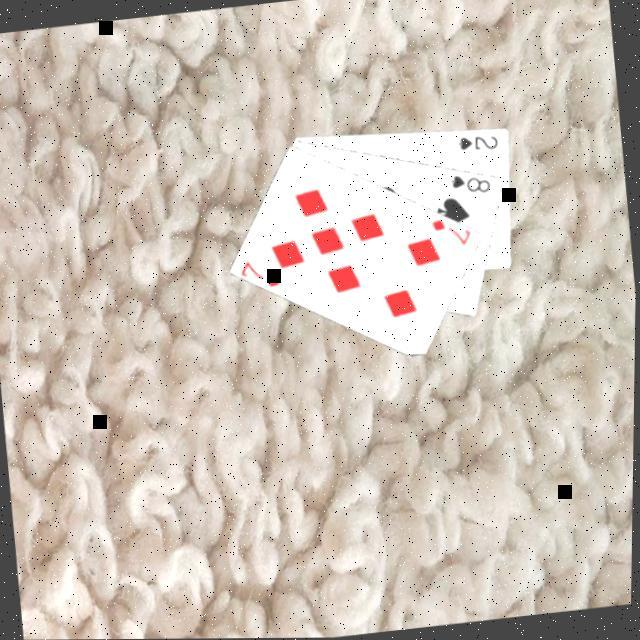2S: (452, 128, 499, 154)
7D: (426, 211, 473, 250), (235, 254, 282, 292)
8S: (445, 167, 493, 198)
